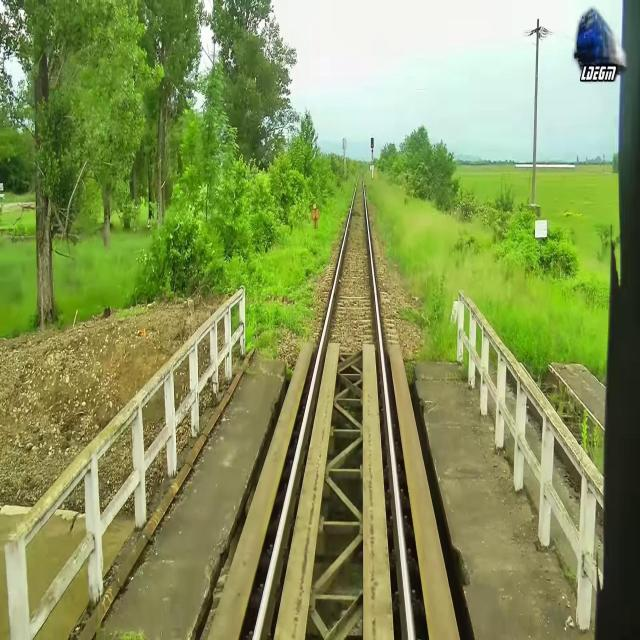rail-track: (258, 172, 409, 639)
